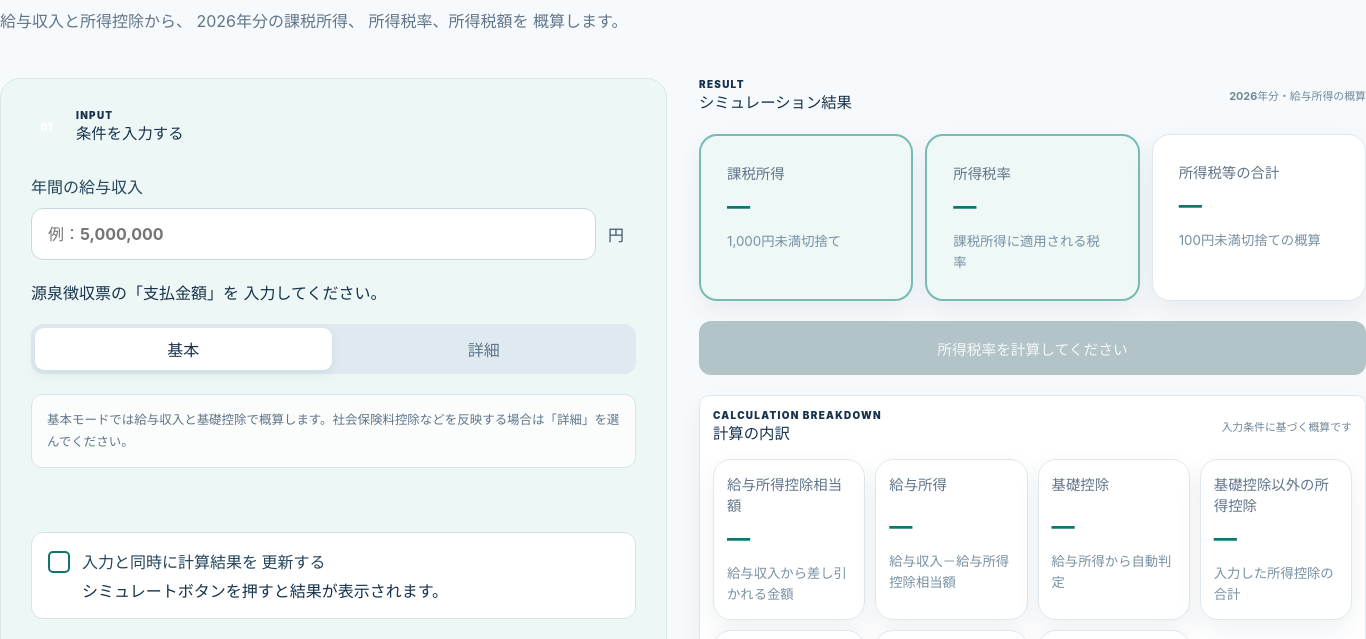
Test case: TaxableIncomeCalculator public UX › operates deduction disclosures by keyboard and preserves closed values
Click the button "詳細" at (484, 349), box [336,328,632,370]
(page scrolled)
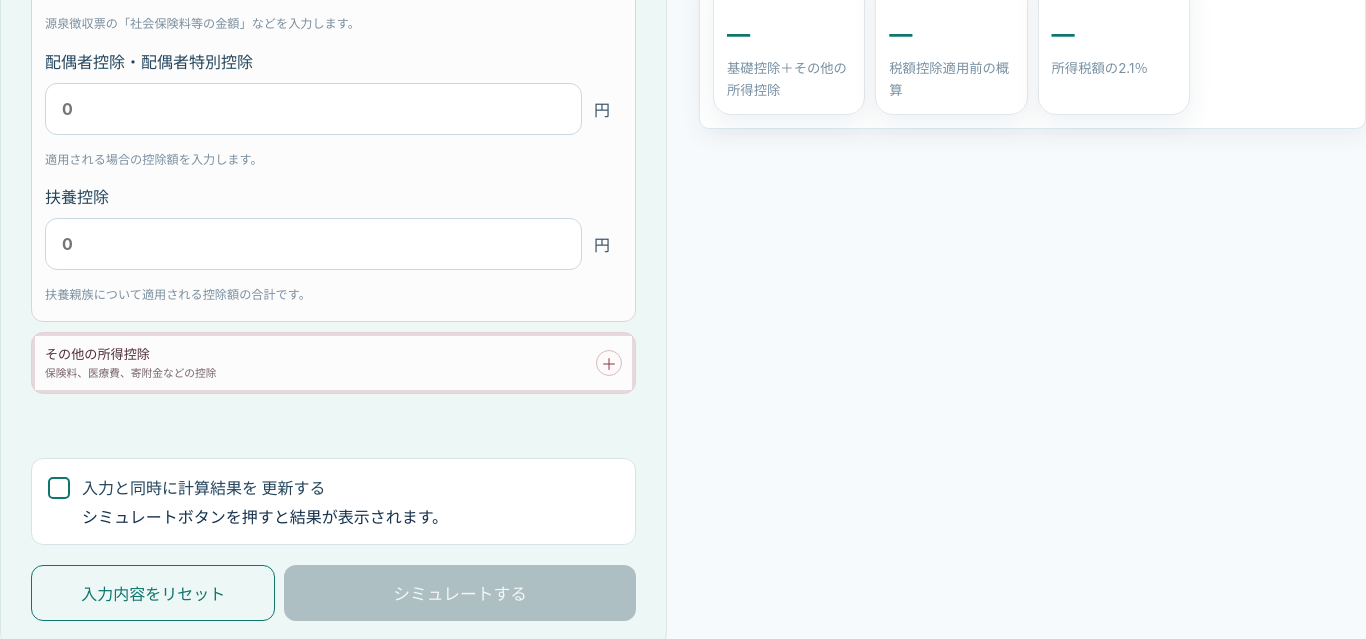
Press Enter
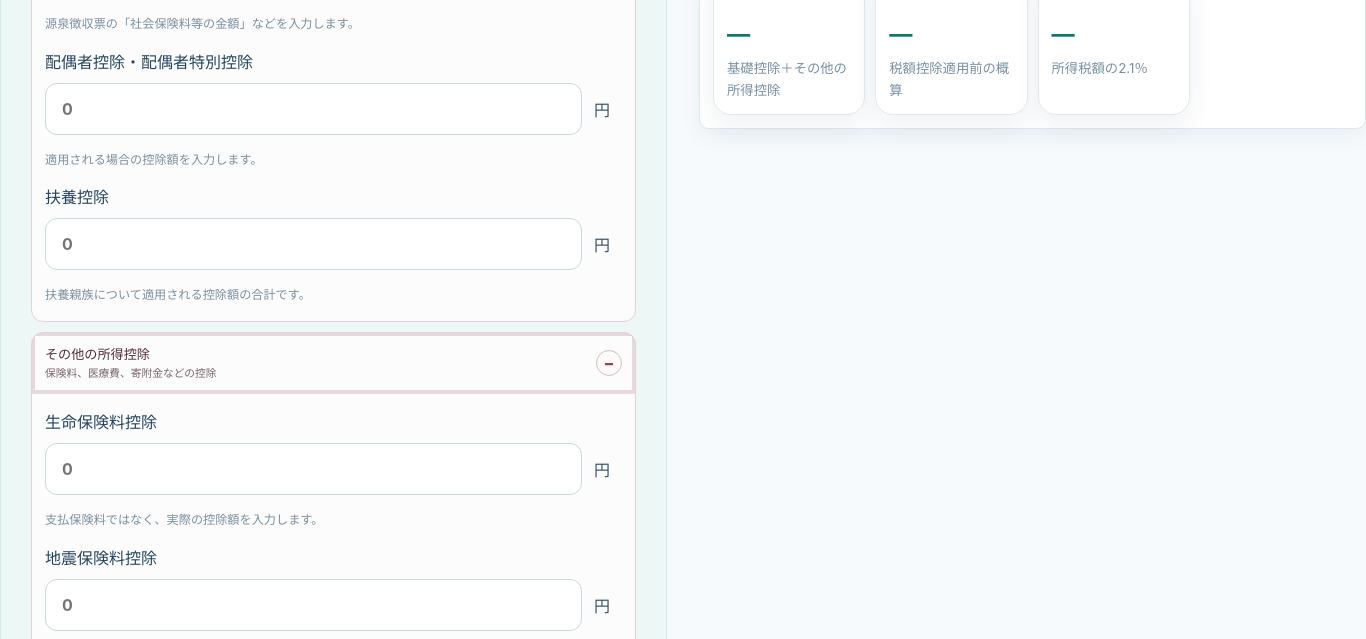
Expected: the button "その他の所得控除 保険料、医療費、寄附金などの控除 −" is expanded, [32,333,635,393]
Type "100000" into the field labelled "生命保険料控除 円 支払保険料ではなく、実際の控除額を入力します。" at (314, 469), box [45,443,582,495]
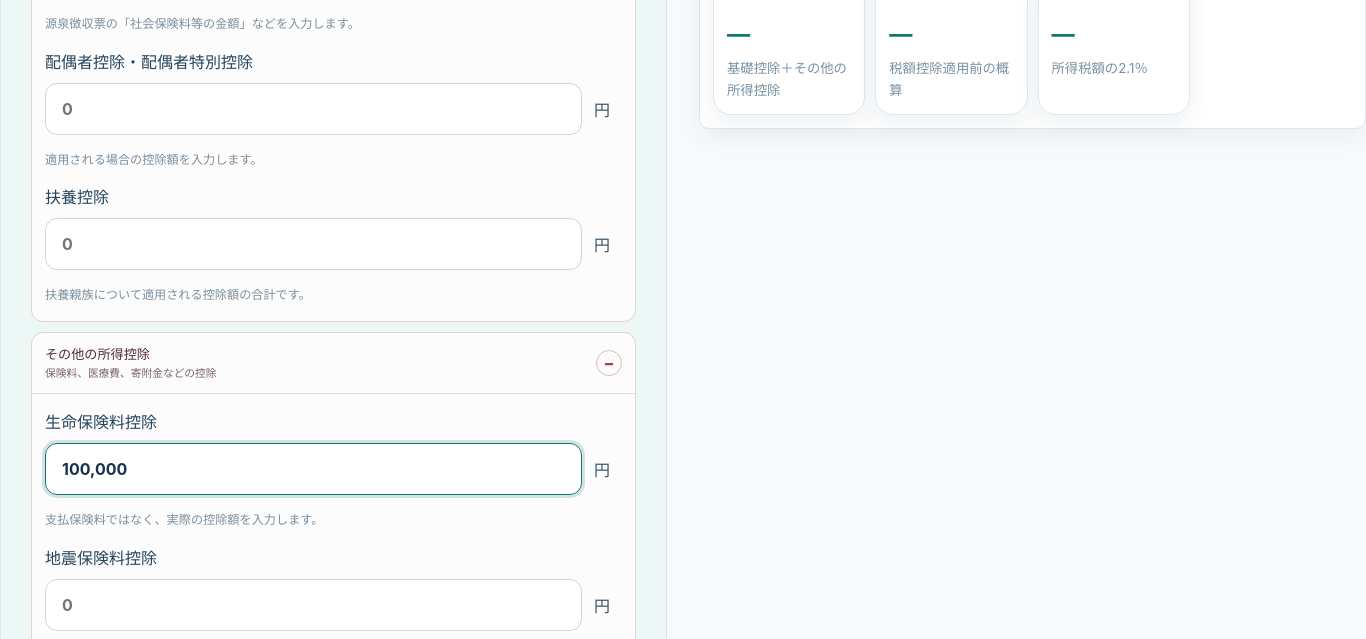
Click the button "その他の所得控除 保険料、医療費、寄附金などの控除 −" at (97, 354), box [32,333,635,393]
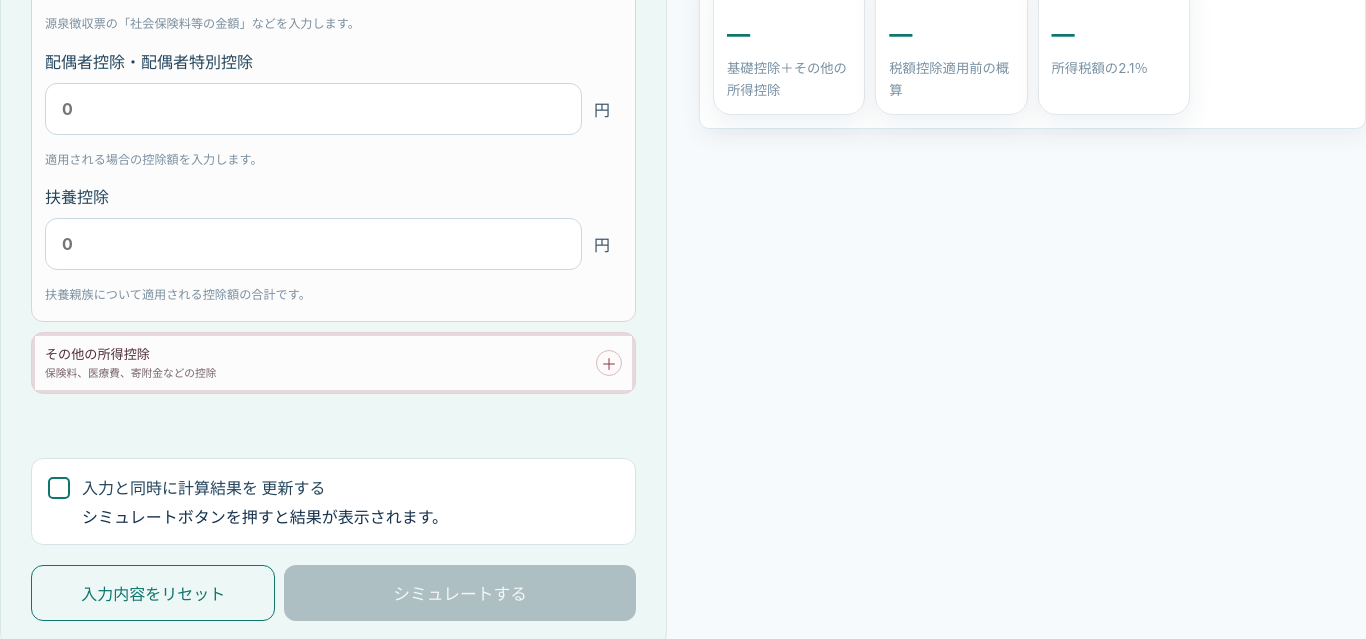
Expected: the button "その他の所得控除 保険料、医療費、寄附金などの控除 ＋" is collapsed
Click the button "その他の所得控除 保険料、医療費、寄附金などの控除 ＋" at (97, 354), box [32,333,635,393]
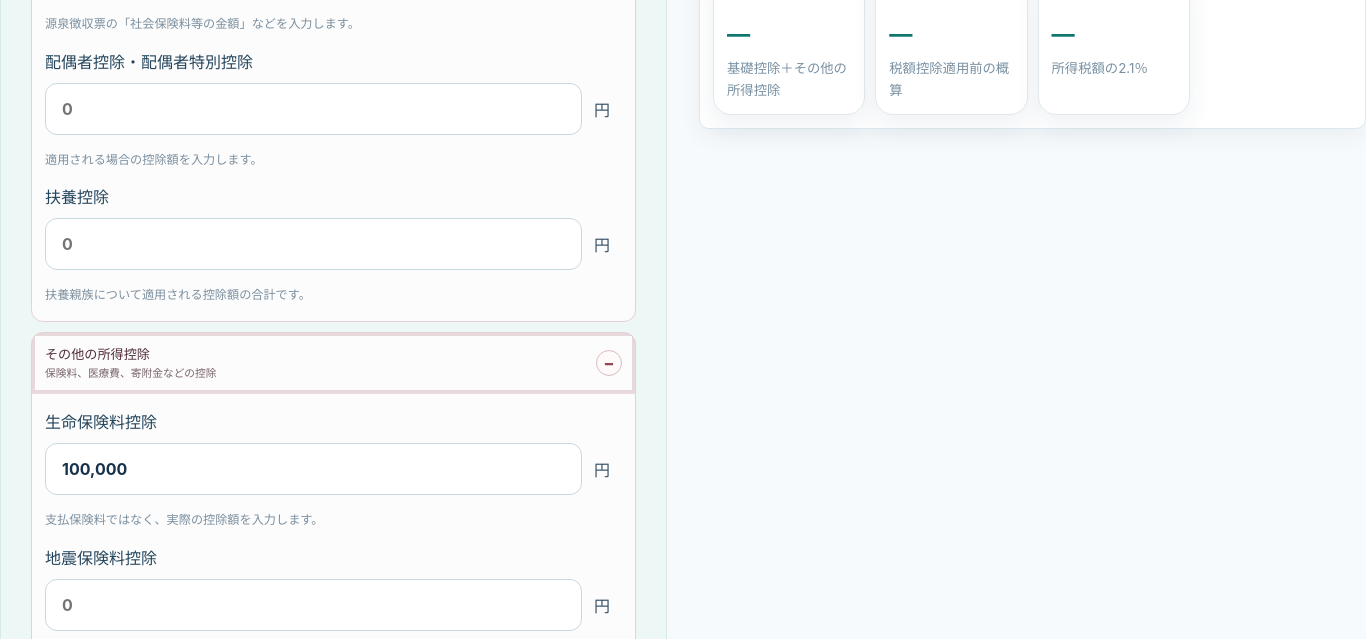
Expected: the field labelled "生命保険料控除 円 支払保険料ではなく、実際の控除額を入力します。" holds "100,000", [45,443,582,495]
